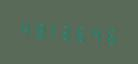eight: (31, 17, 44, 42)
four: (17, 16, 30, 41), (87, 21, 100, 46)
one: (45, 18, 58, 43)
six: (73, 20, 86, 45), (101, 22, 114, 47)
three: (59, 19, 72, 44)
